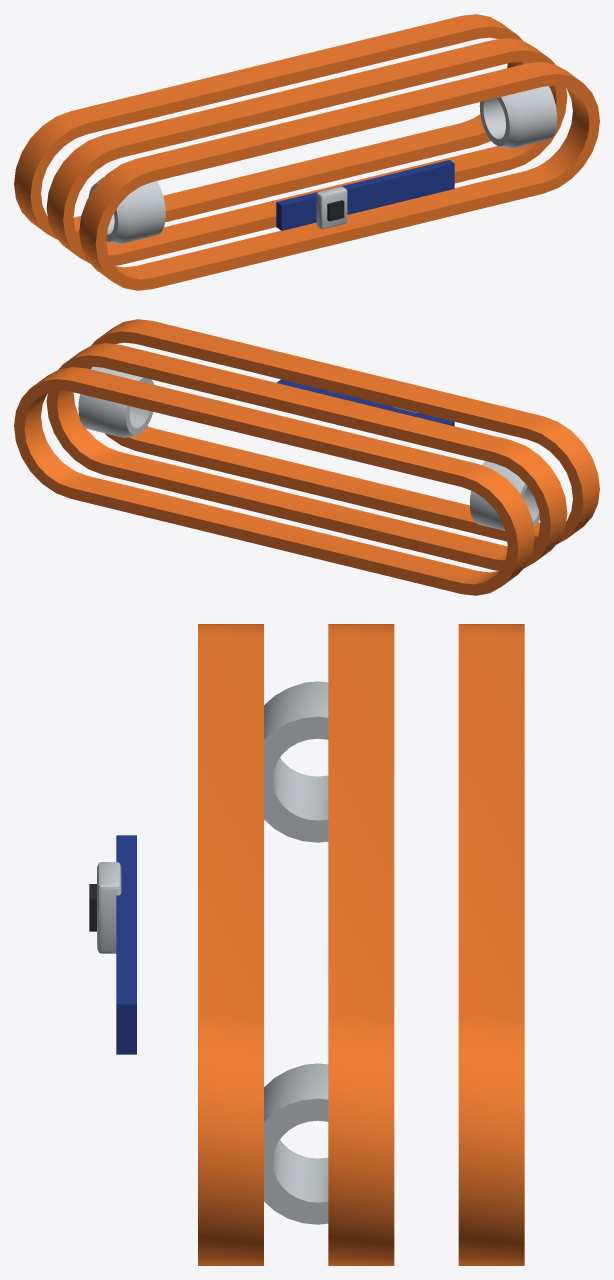
The model's file is orange_hose_bundle.glb.
The picture shows the model from 3 angles, top to bottom: view 1: azimuth 30°, elevation 25°; view 2: azimuth 150°, elevation 25°; view 3: azimuth 270°, elevation 25°; orthographic projection. The views are drawn at different scales.
Parts seen in each view (by area): view 1: orange_hose_bundle; view 2: orange_hose_bundle; view 3: orange_hose_bundle.
Part boxes in pixels (left/top/right/bottom): orange_hose_bundle: left=14, top=14, right=599, bottom=290; orange_hose_bundle: left=14, top=319, right=599, bottom=595; orange_hose_bundle: left=89, top=624, right=524, bottom=1265.
Size of the model in its own units: 1 by 0.2249 by 0.3756.
